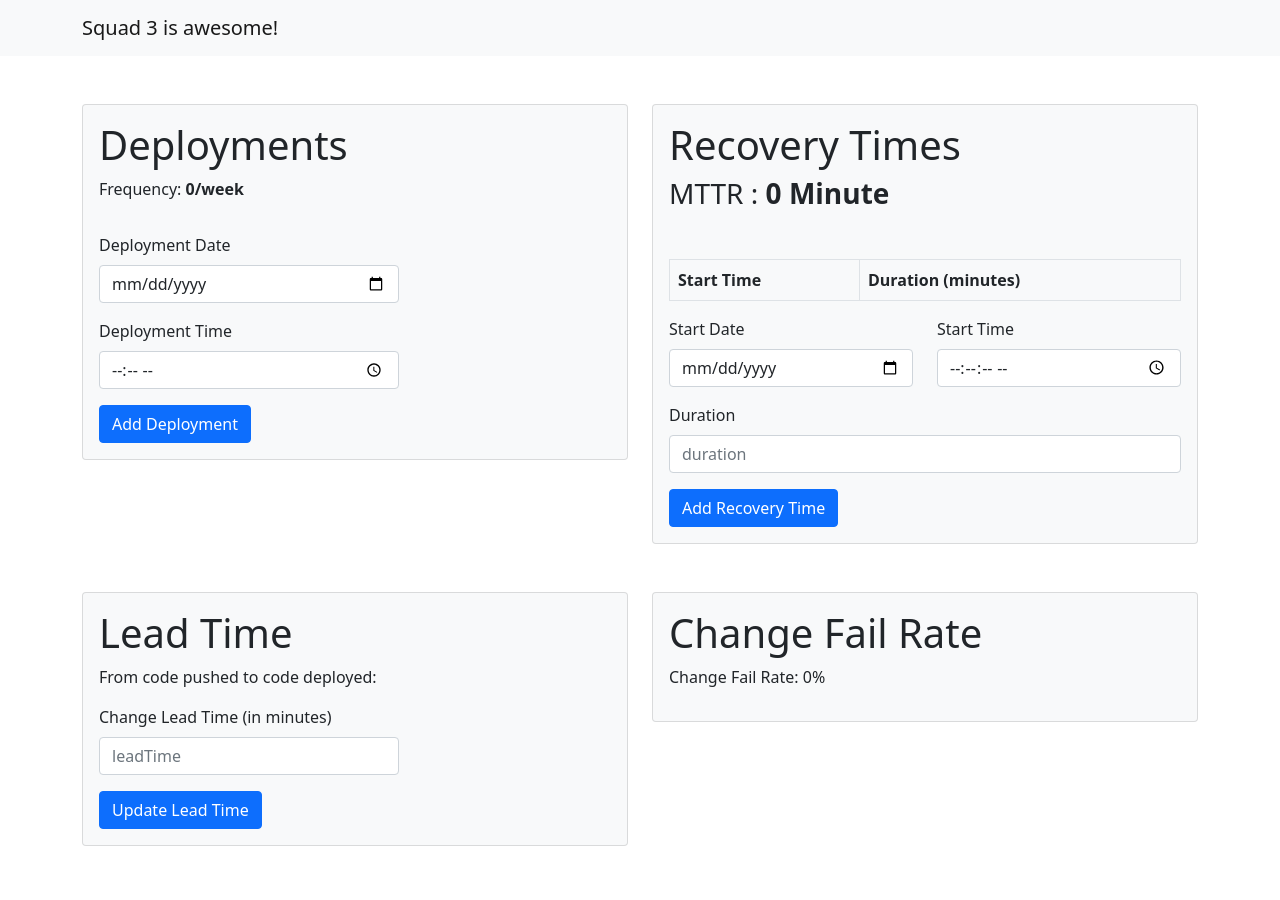
fail rate update when new deployment and recovery time is added
Type "2021-08-23" into the date field labelled "Deployment Date" at {"x": 249, "y": 284}, box [99,265,399,303]
Type "16:04" into the time field labelled "Deployment Time" at {"x": 249, "y": 370}, box [99,351,399,389]
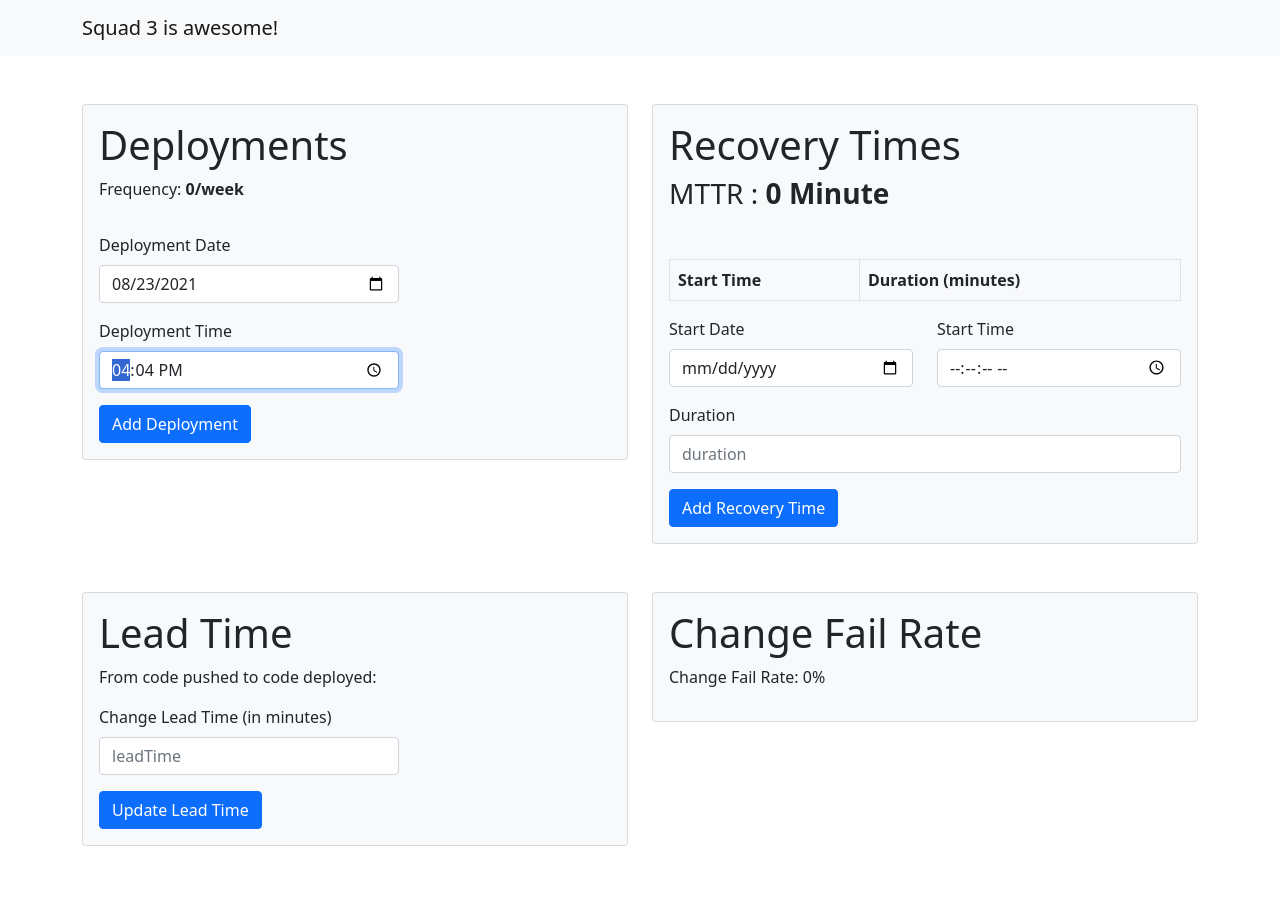
Click the button "Add Deployment" at {"x": 175, "y": 424}, box [99,405,251,443]
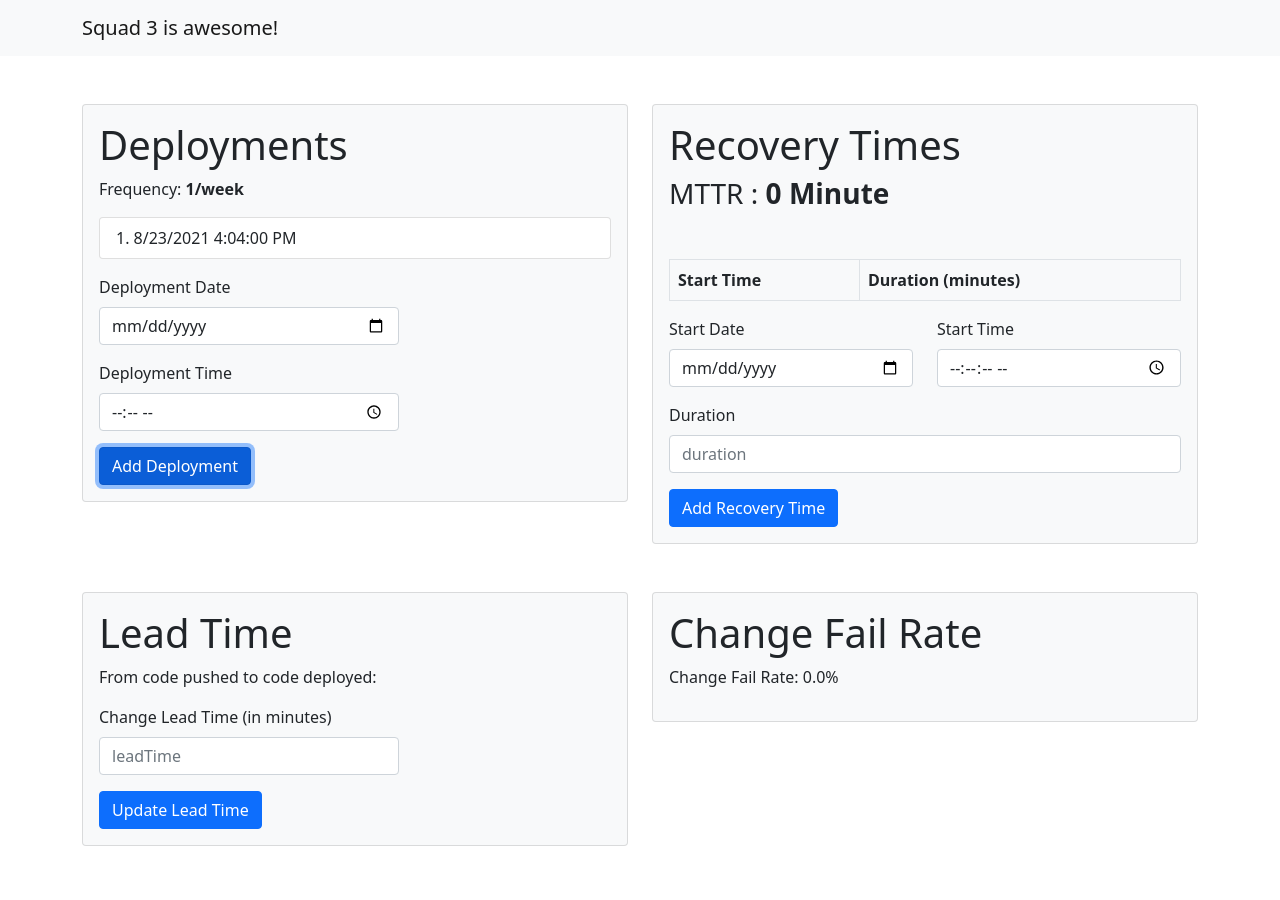
Type "2021-09-01" into the date field labelled "Start Date" at {"x": 791, "y": 368}, box [669,349,913,387]
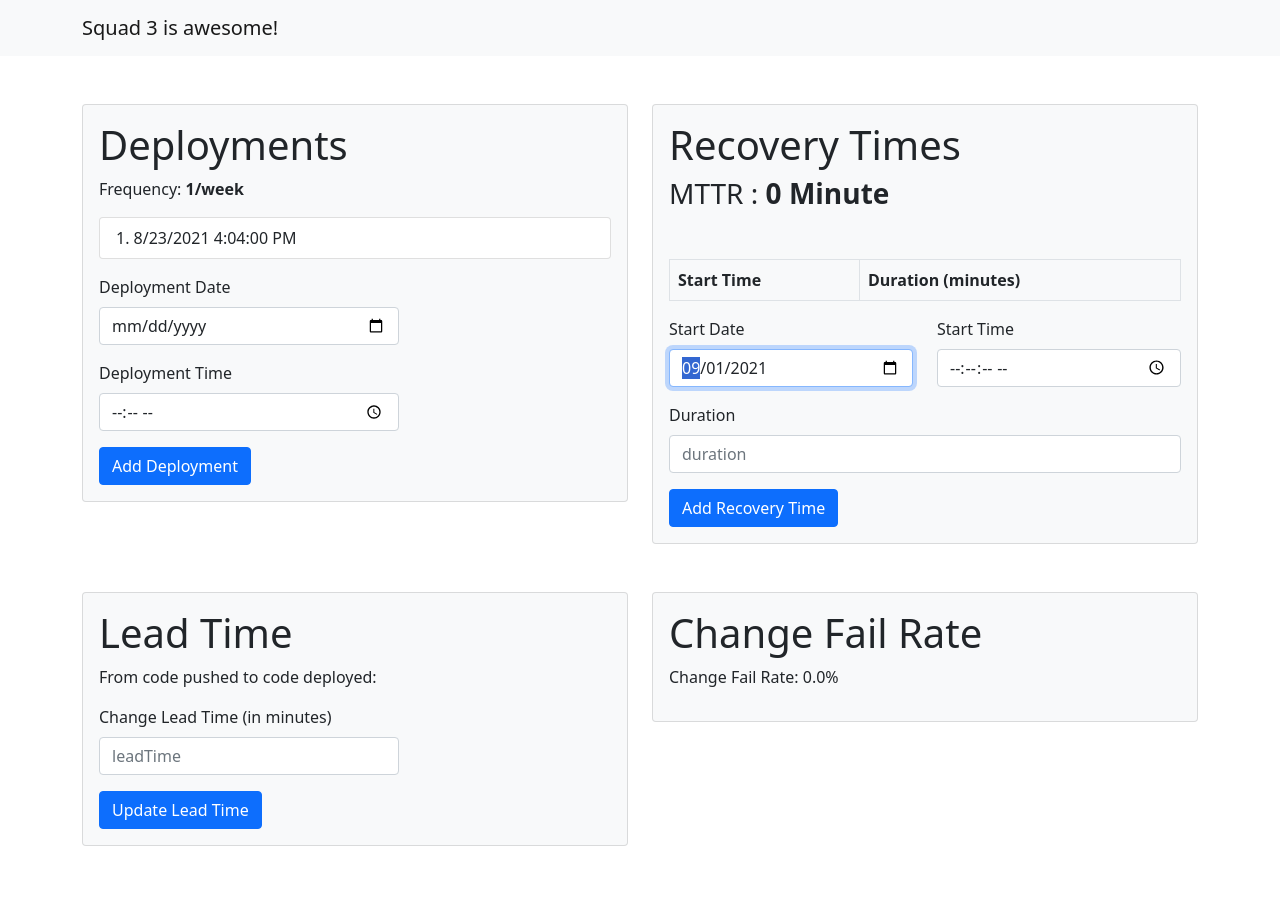
Type "2245" into the time field labelled "Start Time" at {"x": 1059, "y": 368}, box [937,349,1181,387]
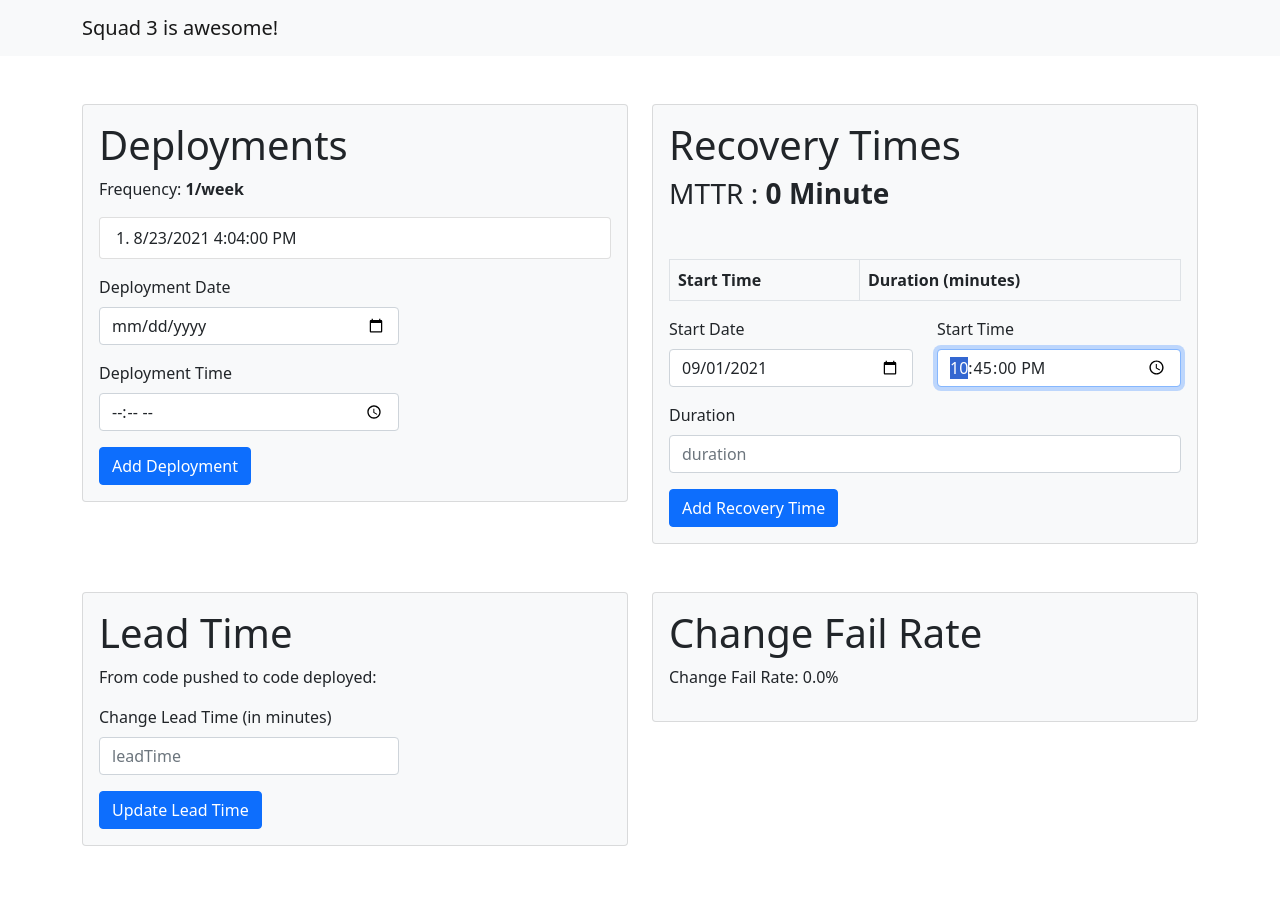
Type "15" into the number field labelled "Duration" at {"x": 925, "y": 454}, box [669,435,1181,473]
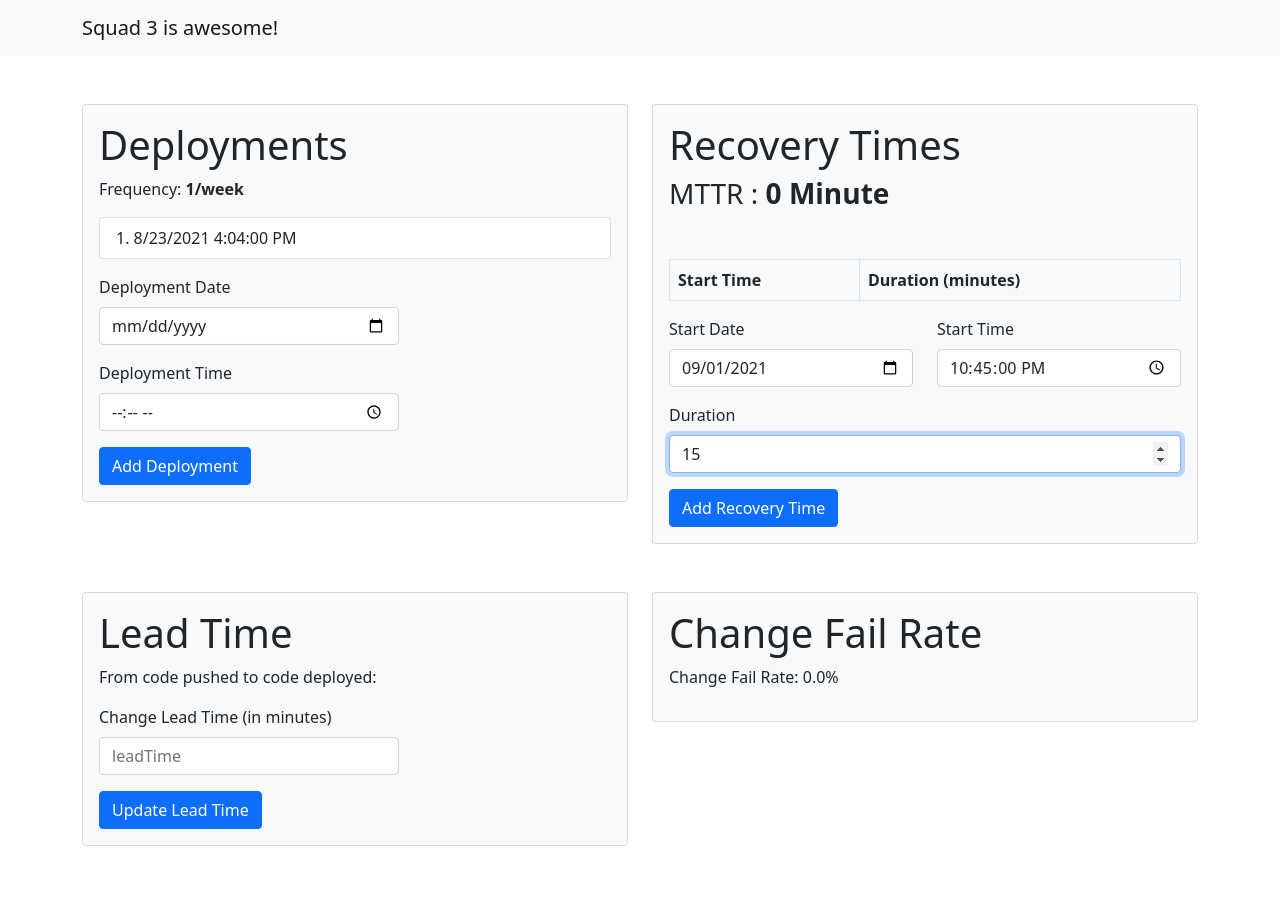
Click the button "Add Recovery Time" at {"x": 754, "y": 508}, box [669,489,838,527]
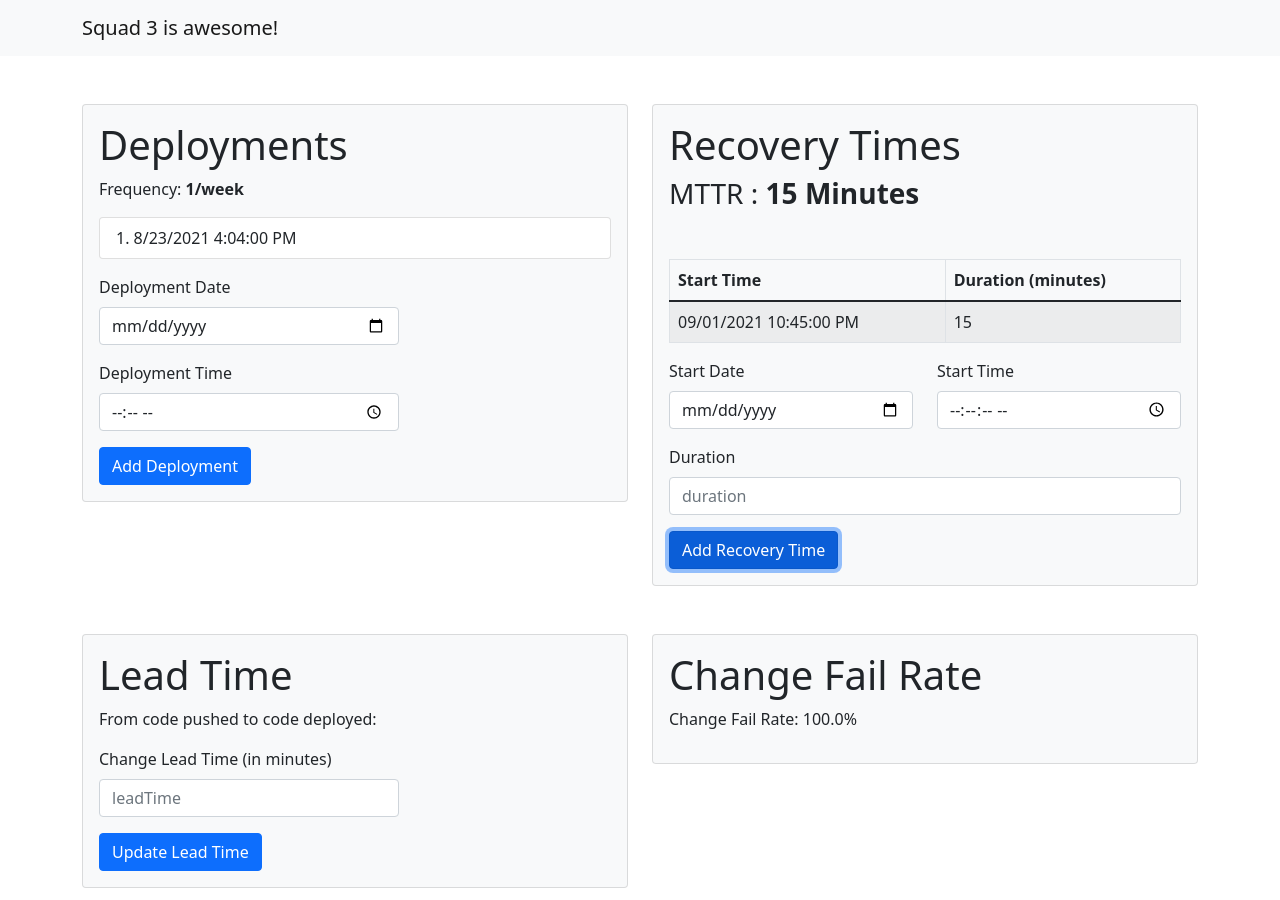
Check: the text "Change Fail Rate: 100.0%" is shown, box [669,708,857,730]
